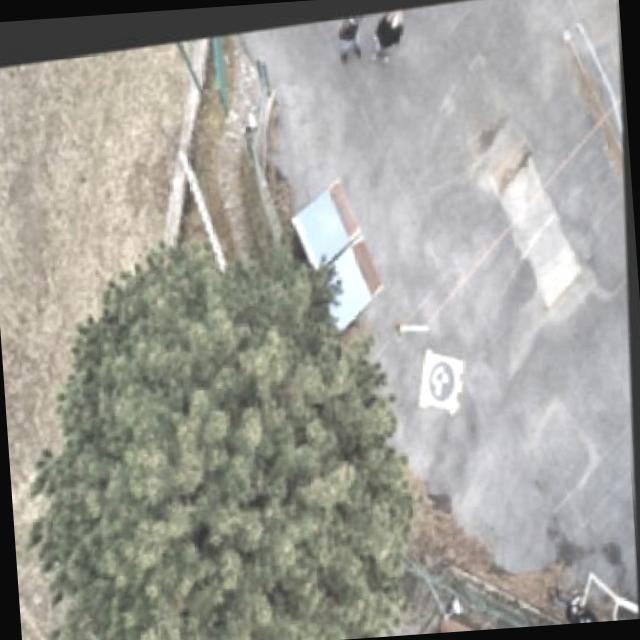Person: (361, 4, 422, 71), (556, 582, 612, 622), (334, 11, 373, 64)
